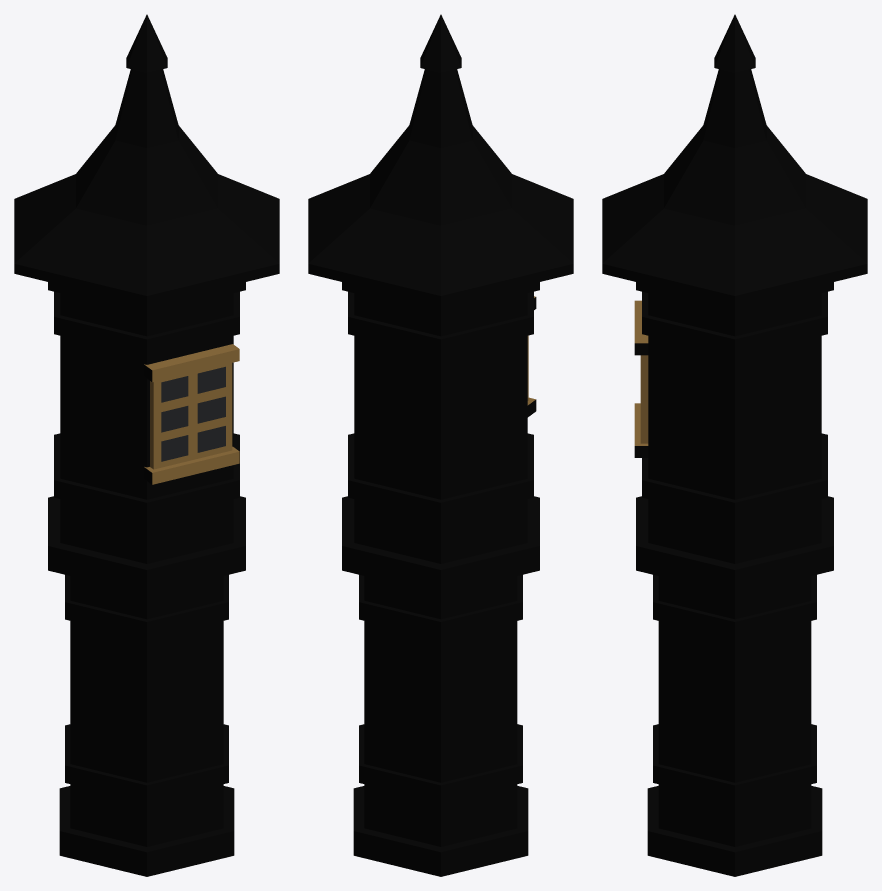
File: HouseAdd_Tower.gltf
The picture shows the model from 3 angles, left to right: view 1: azimuth 30°, elevation 25°; view 2: azimuth 150°, elevation 25°; view 3: azimuth 270°, elevation 25°; orthographic projection.
Visible parts, largest first — view 1: SF_Bld_HouseAdd_Tower_01; view 2: SF_Bld_HouseAdd_Tower_01; view 3: SF_Bld_HouseAdd_Tower_01.
Part boxes in pixels (x1=…): SF_Bld_HouseAdd_Tower_01: x1=14, y1=14, x2=279, y2=876; SF_Bld_HouseAdd_Tower_01: x1=308, y1=14, x2=573, y2=876; SF_Bld_HouseAdd_Tower_01: x1=602, y1=14, x2=867, y2=876.
Bounding box in the file's own units: 0.045 × 0.133 × 0.039.
1 material, 1 textured.
